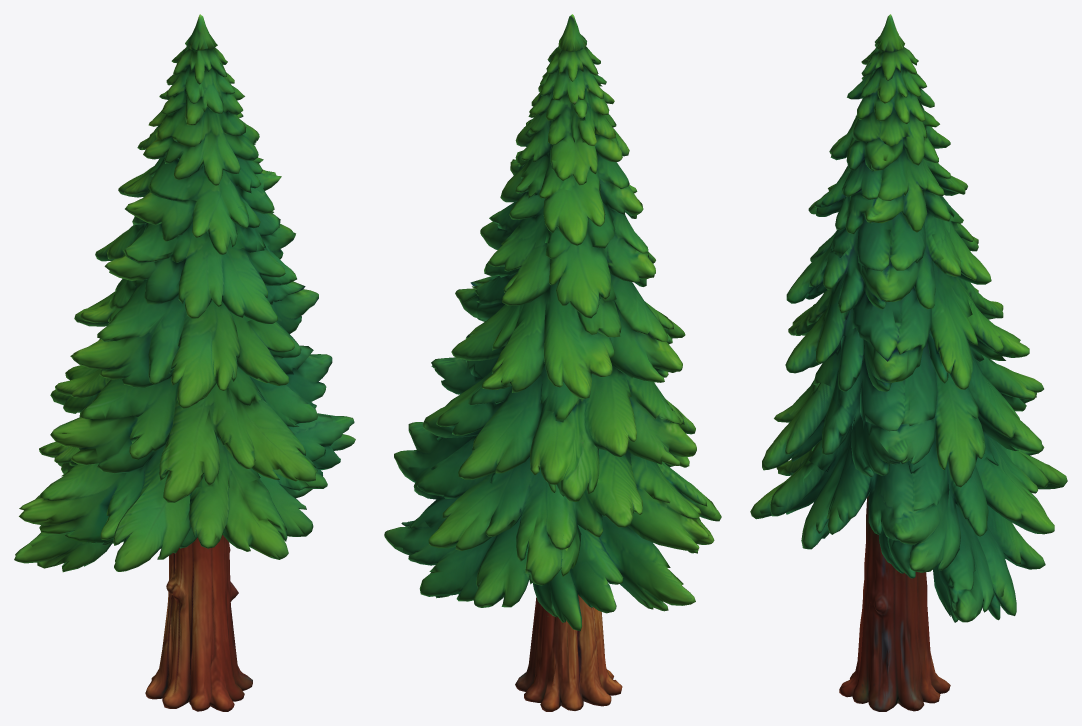
Rendered from pine_tree.glb.
The picture shows the model from 3 angles, left to right: view 1: azimuth 30°, elevation 25°; view 2: azimuth 150°, elevation 25°; view 3: azimuth 270°, elevation 25°; orthographic projection.
Visible parts, largest first — view 1: tripo_node_15f9d2b0-33ce-4327-b07c-69833a242106; view 2: tripo_node_15f9d2b0-33ce-4327-b07c-69833a242106; view 3: tripo_node_15f9d2b0-33ce-4327-b07c-69833a242106.
Part boxes in pixels (<box>): tripo_node_15f9d2b0-33ce-4327-b07c-69833a242106: <box>14,14,355,711</box>; tripo_node_15f9d2b0-33ce-4327-b07c-69833a242106: <box>384,14,721,711</box>; tripo_node_15f9d2b0-33ce-4327-b07c-69833a242106: <box>750,14,1067,711</box>.
Size of the model in its own units: 0.4957 by 0.9779 by 0.4153.
1 material, 1 textured.
